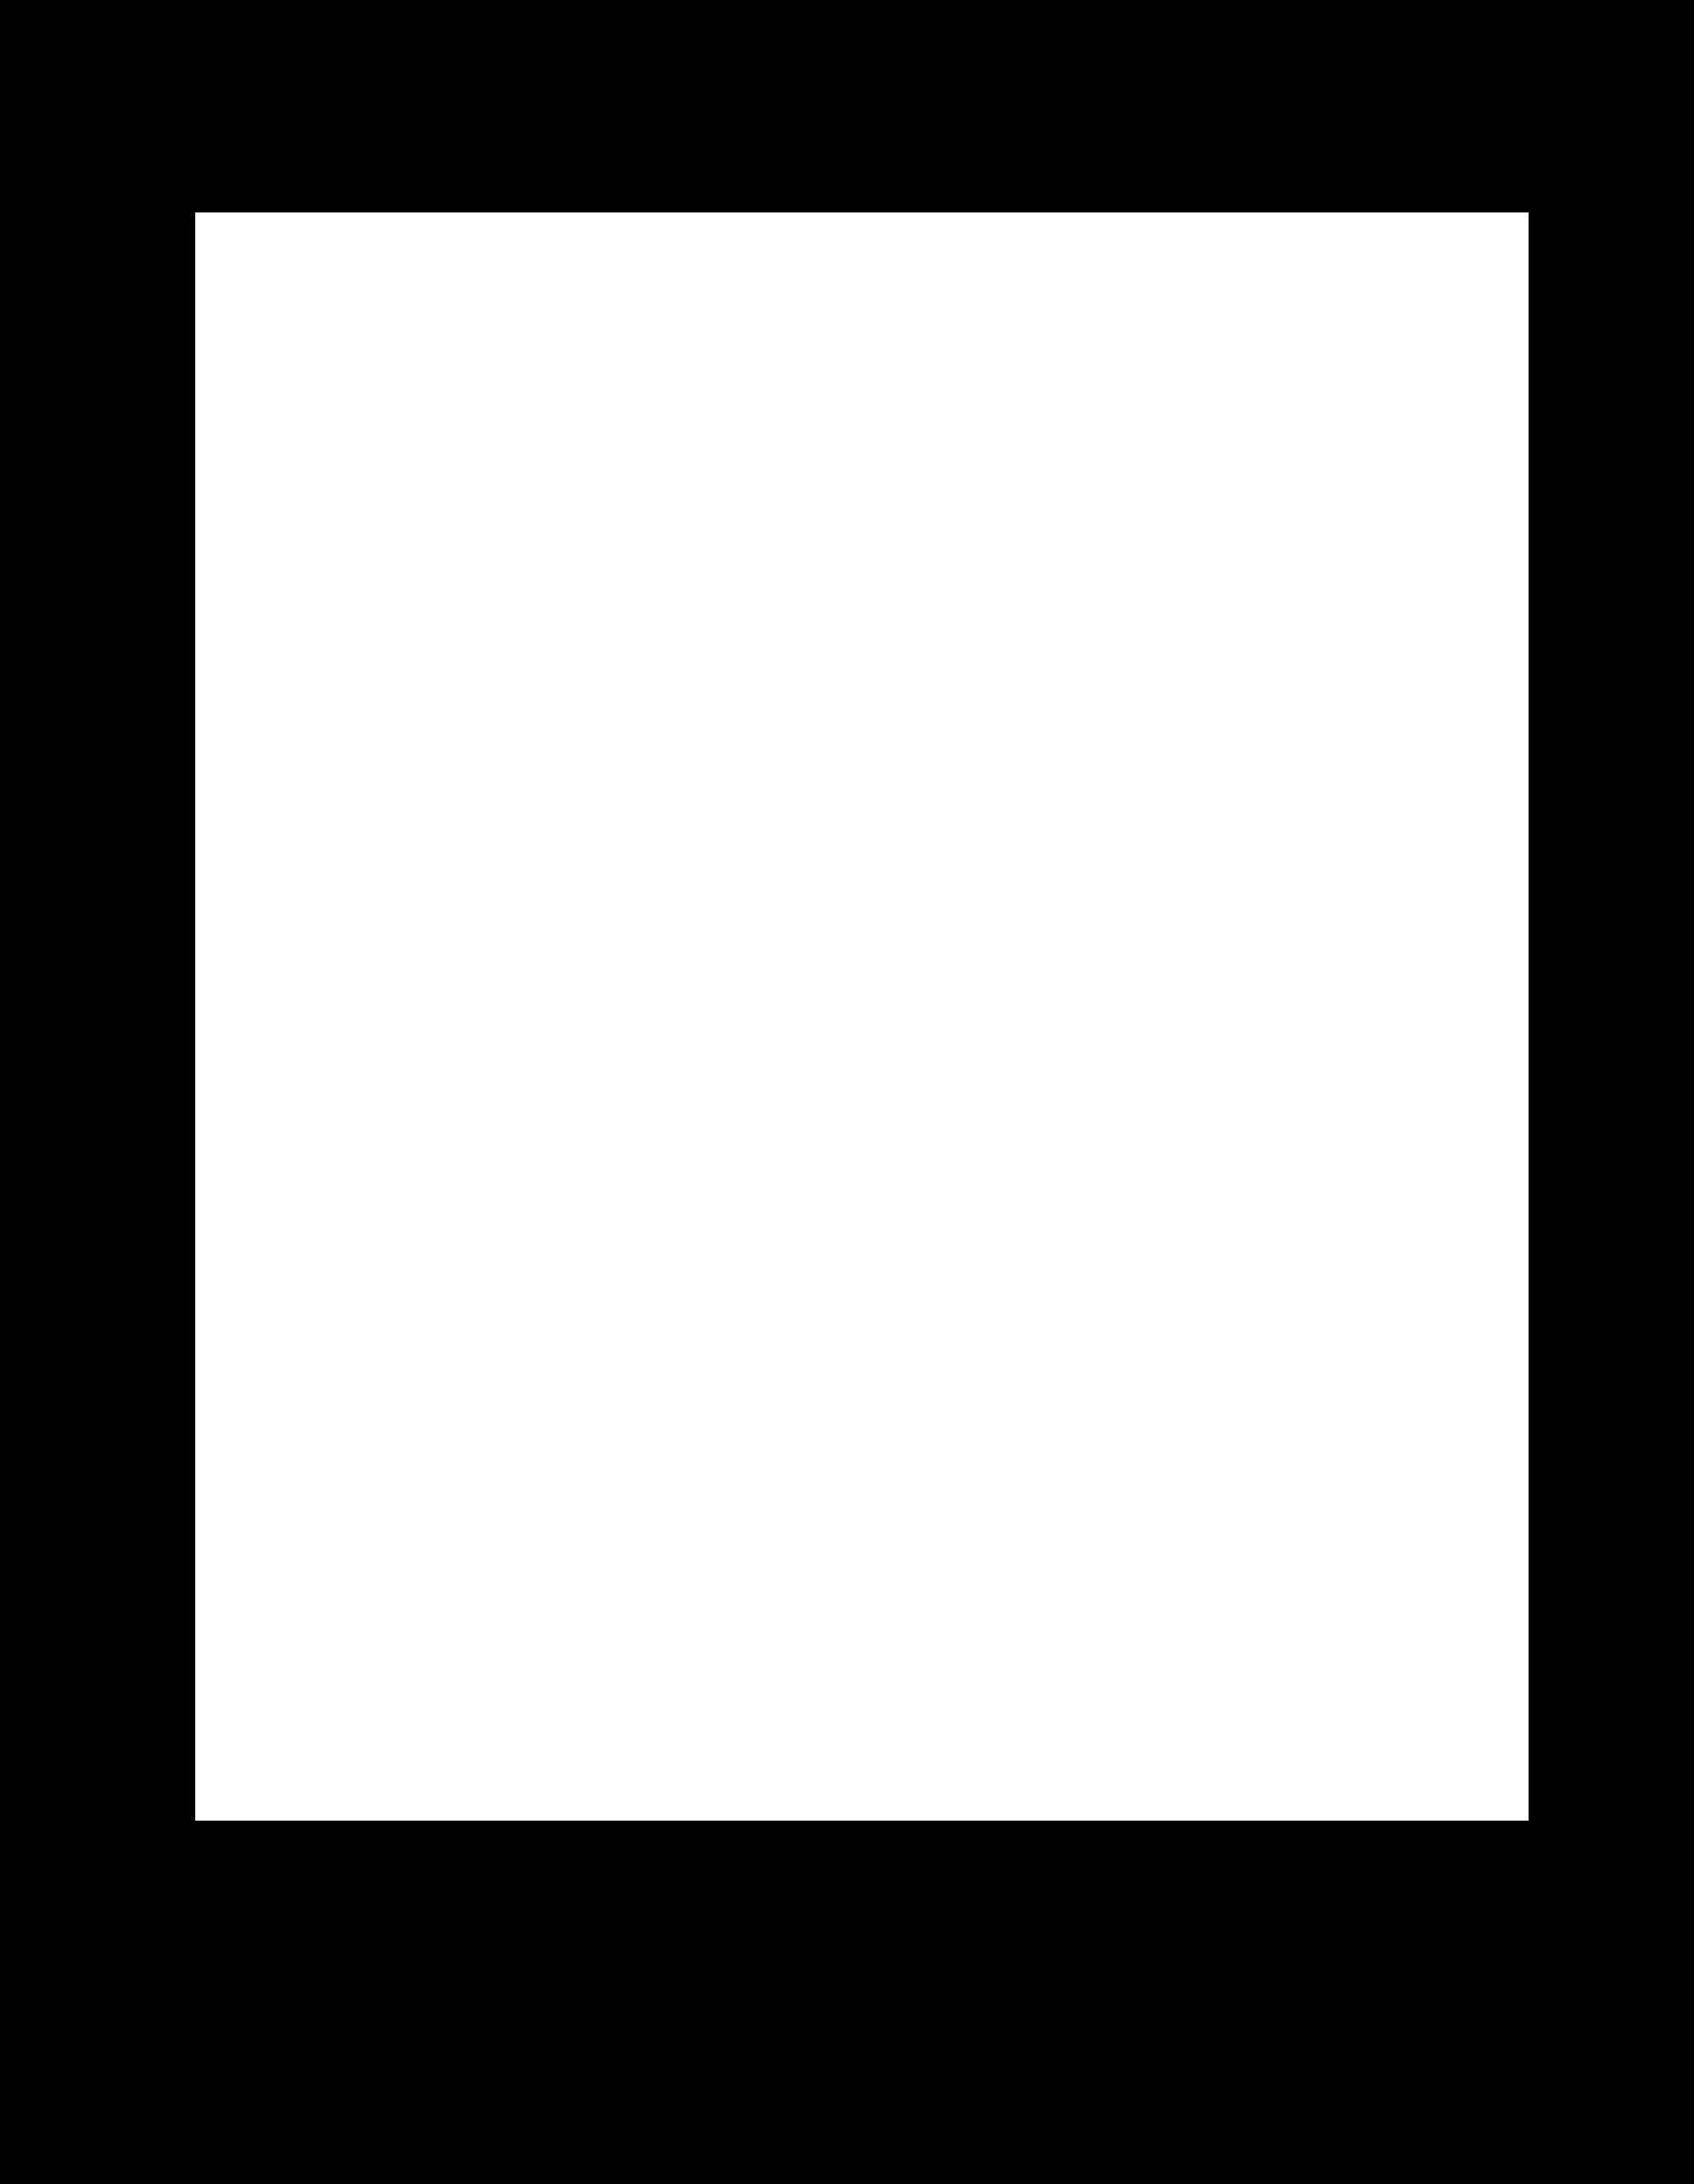table: (195, 213, 1527, 1821)
